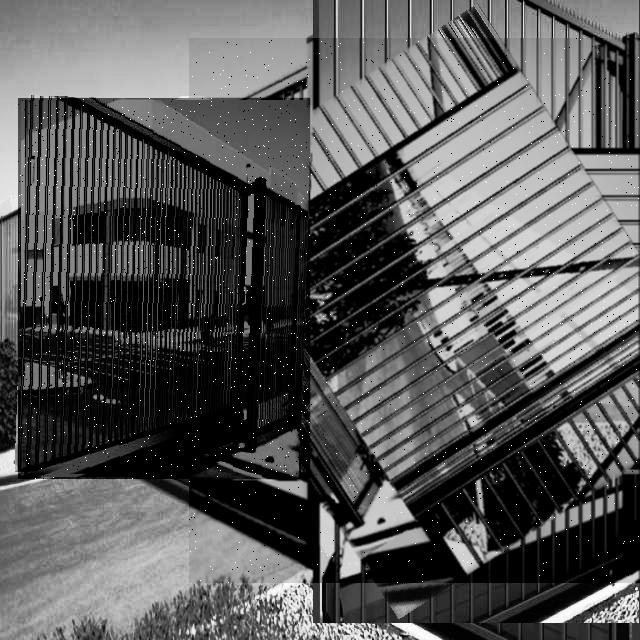fences: (189, 38, 640, 583), (18, 98, 310, 479)
